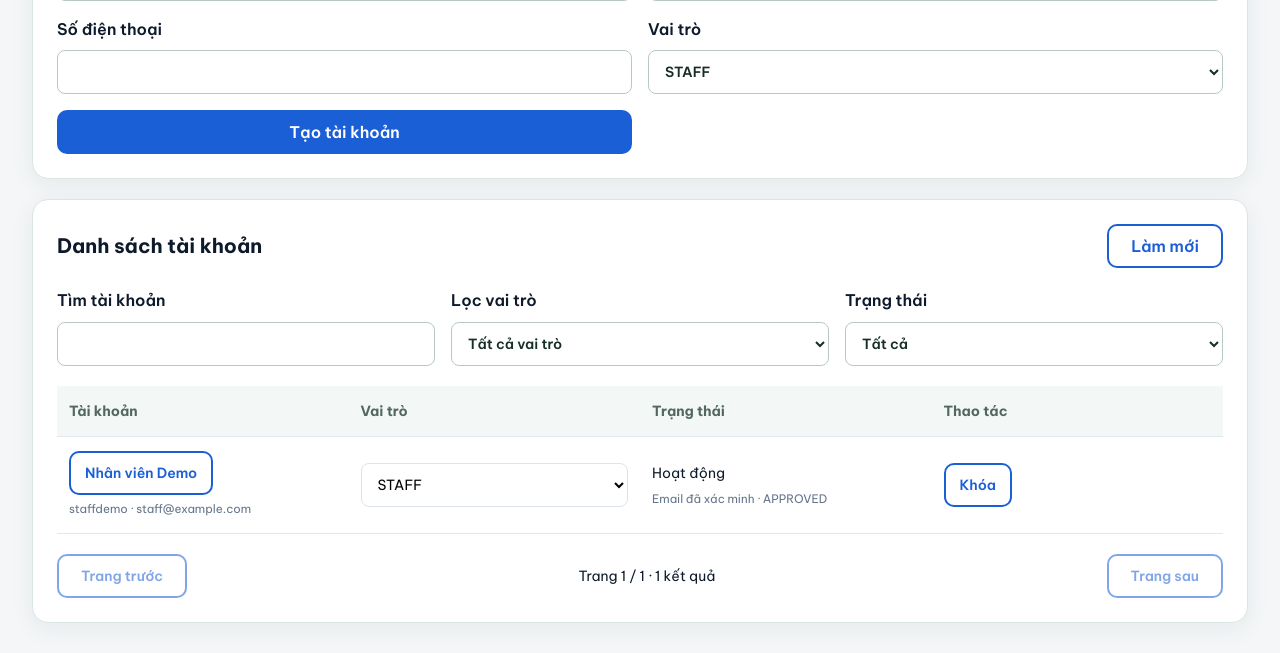
Test: confirms role changes with a reason before sending a PATCH
(page scrolled)
Select "MANAGER" in the dropdown named "Vai trò staffdemo" at point(494, 485), box [360,463,628,507]
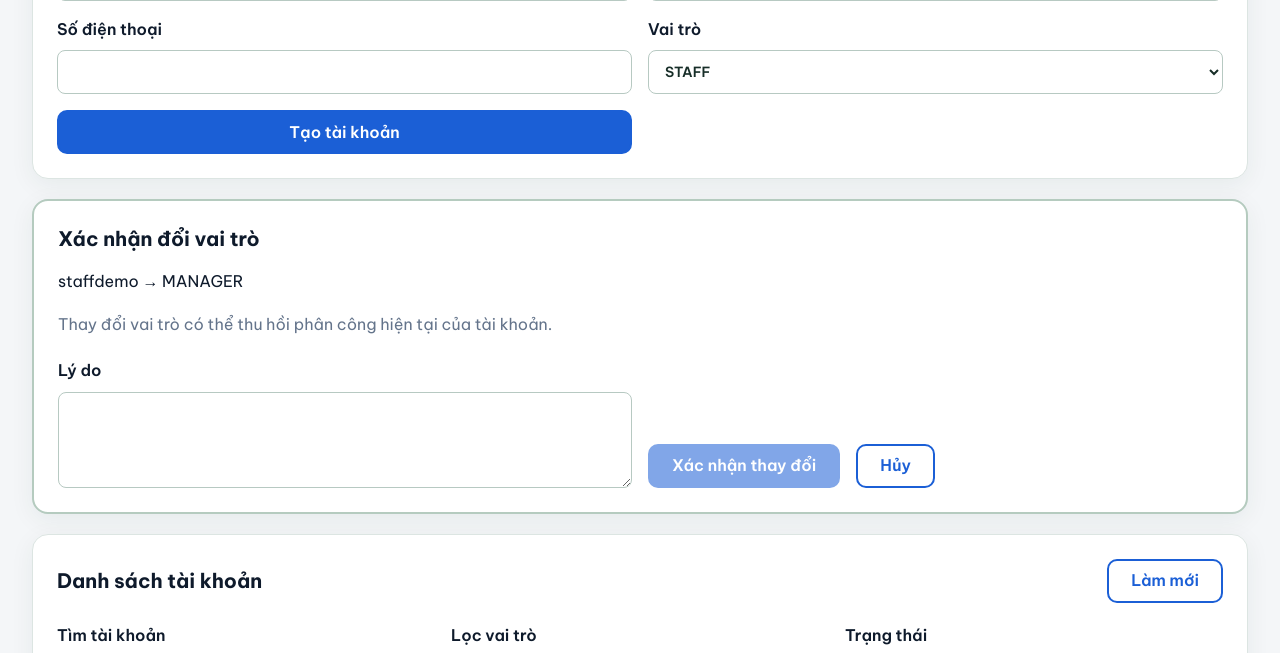
Type "Phụ trách bãi demo" into the text box labelled "Lý do".
click(345, 440); type("Phụ trách bãi demo")  # box [58,392,632,488]
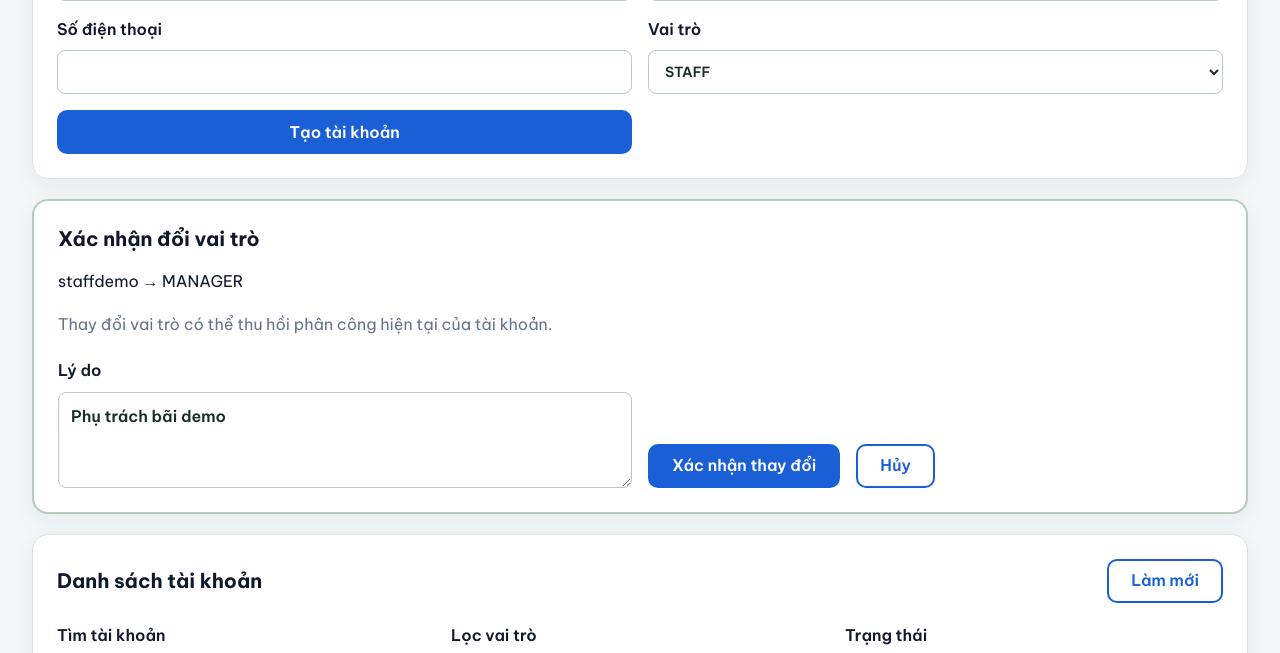
Click the button "Xác nhận thay đổi".
click(744, 466)  # box [648,444,840,488]
(page scrolled)
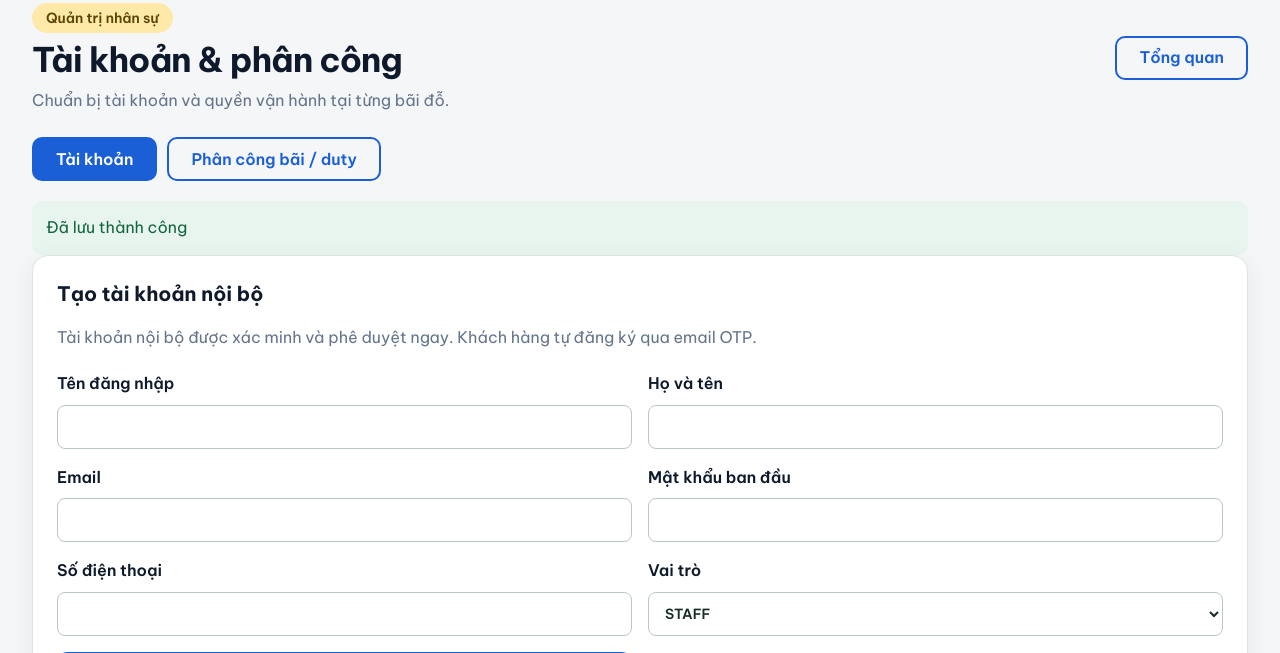
Check: the text "Đã lưu thành công" is shown, box [32,202,1248,255]
